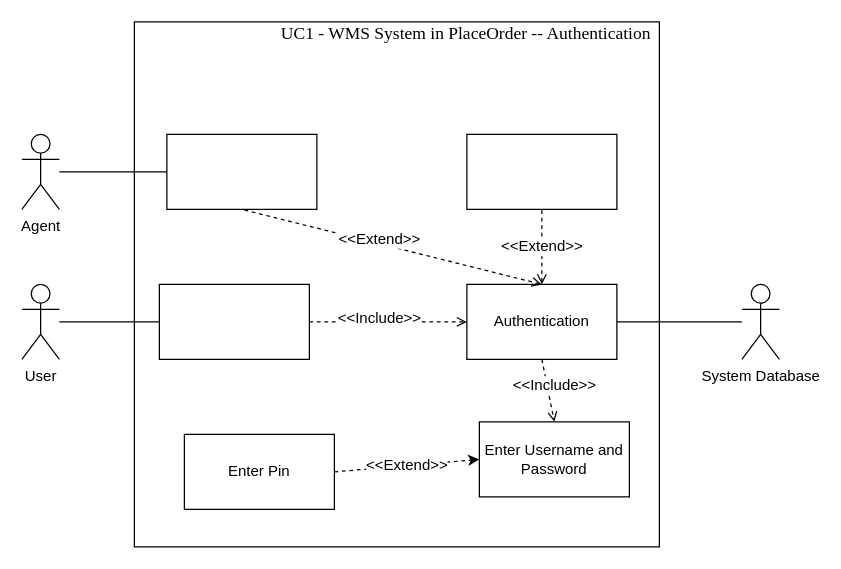
The diagram is 841 pixels wide and 569 high, and some of its shapes have lost their labels. The shapes that lost their labels are listed below. From the top down, each one's centre as x and y in pixels, then its label:
[241,171]: Phone Call
[541,171]: Invalid Credentials
[233,321]: PlaceOrder Session
